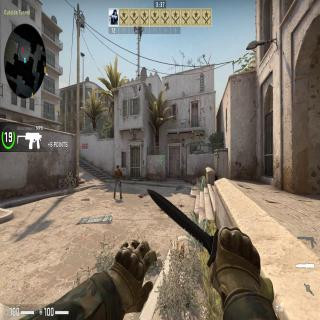T-Body: (113, 164, 123, 199)
T-Head: (117, 165, 119, 169)
